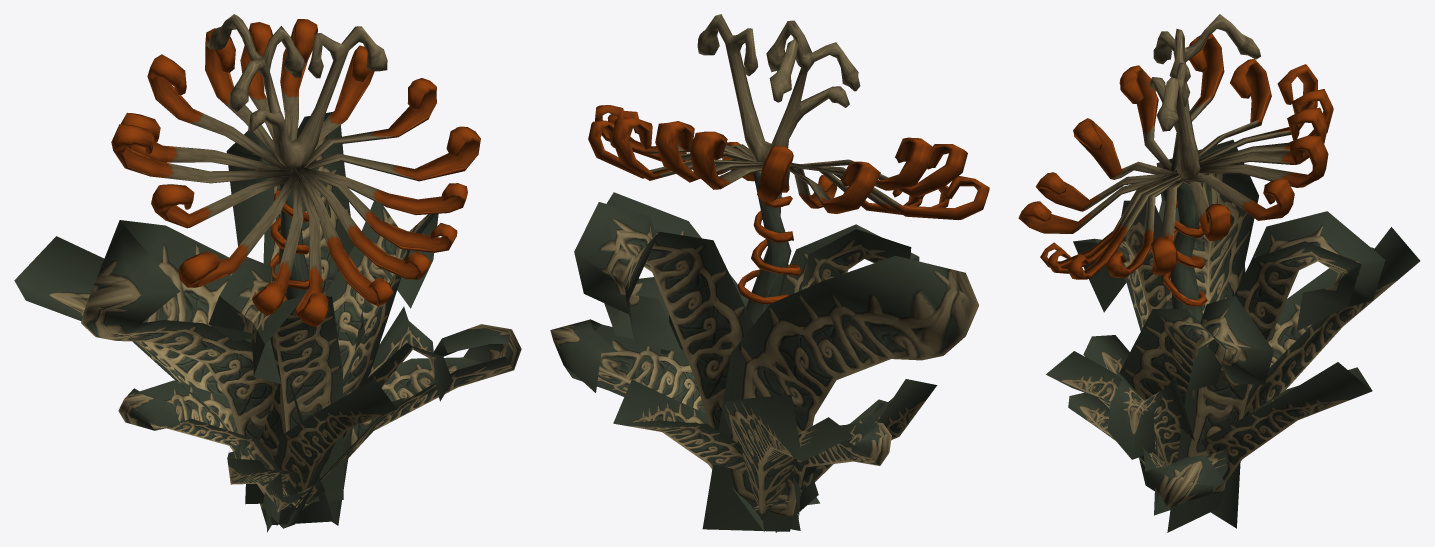
Rendered from algae.glb.
The picture shows the model from 3 angles, left to right: view 1: azimuth 30°, elevation 25°; view 2: azimuth 150°, elevation 25°; view 3: azimuth 270°, elevation 25°; orthographic projection. The views are drawn at different scales.
Parts seen in each view (by area): view 1: node_id154; view 2: node_id154; view 3: node_id154.
Boxes of the visible parts, x1,y1,x2,y2 form: node_id154: (14, 14, 521, 532); node_id154: (550, 14, 989, 532); node_id154: (1018, 14, 1420, 532).
Size of the model in its own units: 0.4502 by 0.512 by 0.3848.
Materials: 1 (1 with a texture image).
